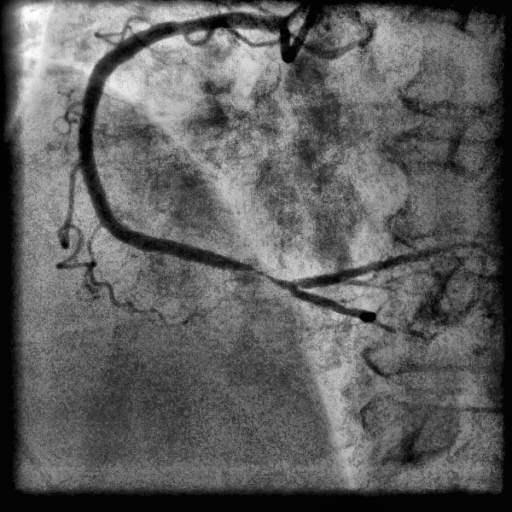pborca: (293, 239, 470, 288)
pda: (290, 289, 395, 333)
rca: (79, 11, 298, 294)
